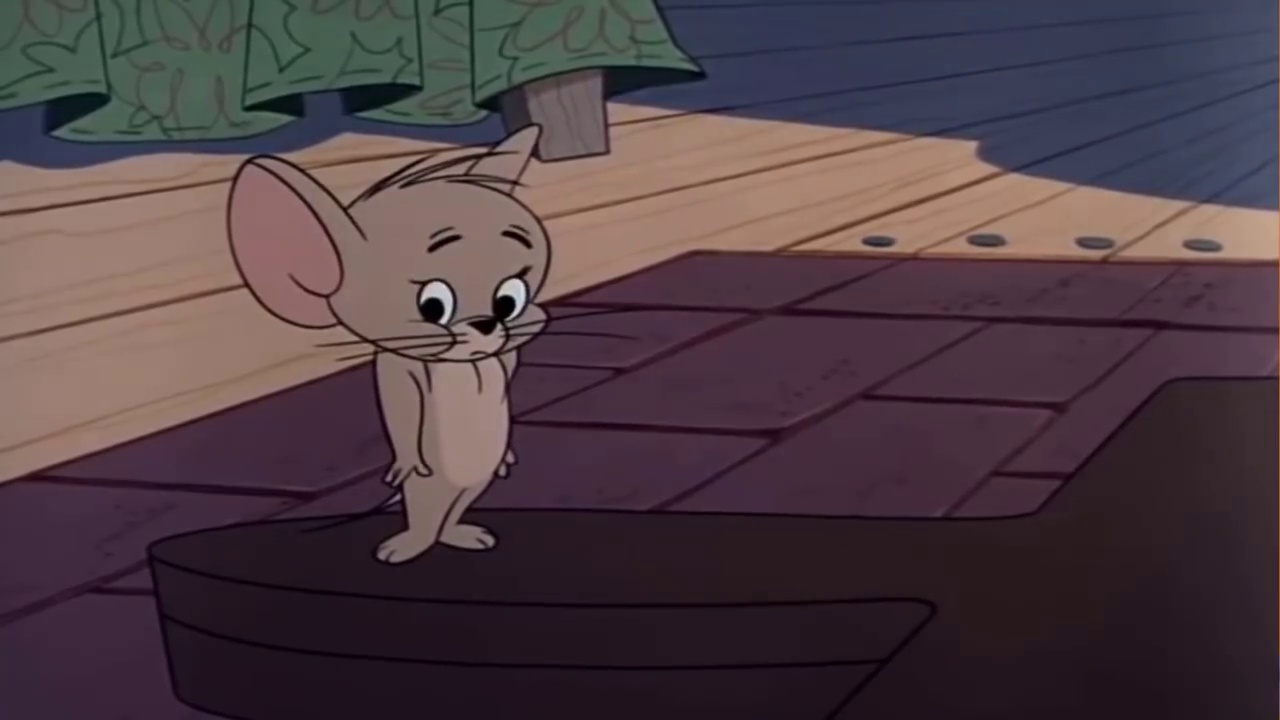face: (398, 218, 542, 366)
